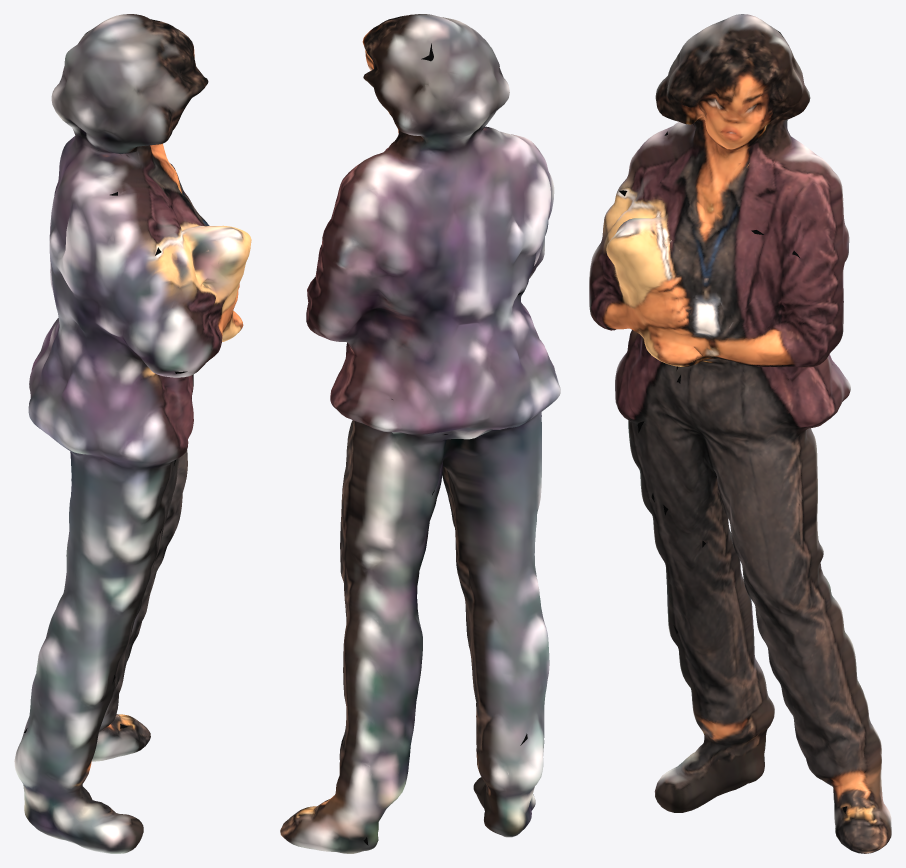
3 views of the same model, side by side, from view 1: azimuth 30°, elevation 25°; view 2: azimuth 150°, elevation 25°; view 3: azimuth 270°, elevation 25° (orthographic).
Parts seen in each view (by area): view 1: source-12; view 2: source-12; view 3: source-12.
Part boxes in pixels (x1,y1,x2,y2): source-12: [14, 14, 251, 853]; source-12: [280, 14, 560, 853]; source-12: [589, 14, 891, 853].
Size of the model in its own units: 0.5178 by 2 by 0.6783.
Materials: 1 (1 with a texture image).
